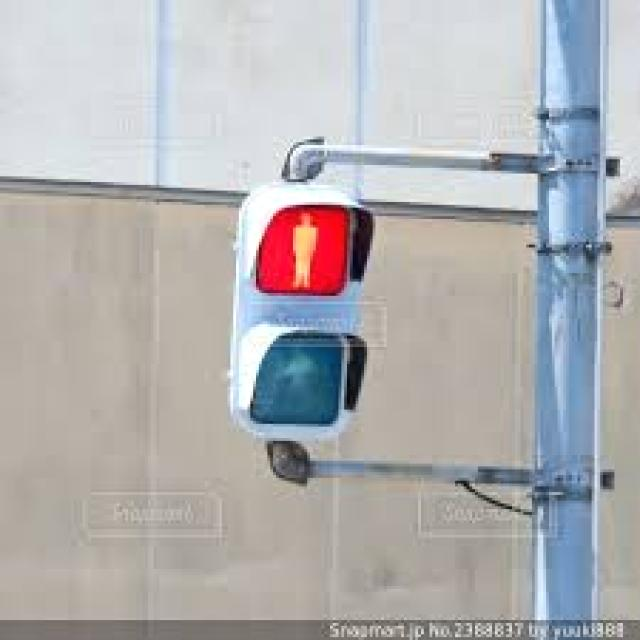trafficlight: (233, 177, 353, 436)
